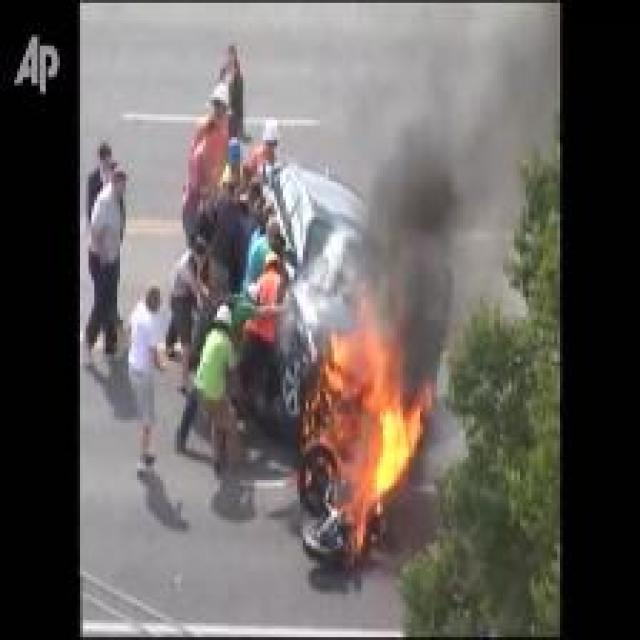Fire: (306, 282, 432, 554)
